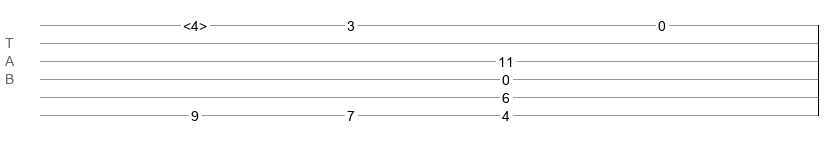0: (502, 72, 510, 82), (658, 18, 666, 28)
11: (498, 54, 514, 64)
3: (347, 18, 355, 28)
4: (502, 108, 510, 118)
6: (502, 90, 510, 100)
7: (347, 108, 355, 118)
9: (191, 108, 199, 118)
harmonic: (183, 18, 207, 28)
